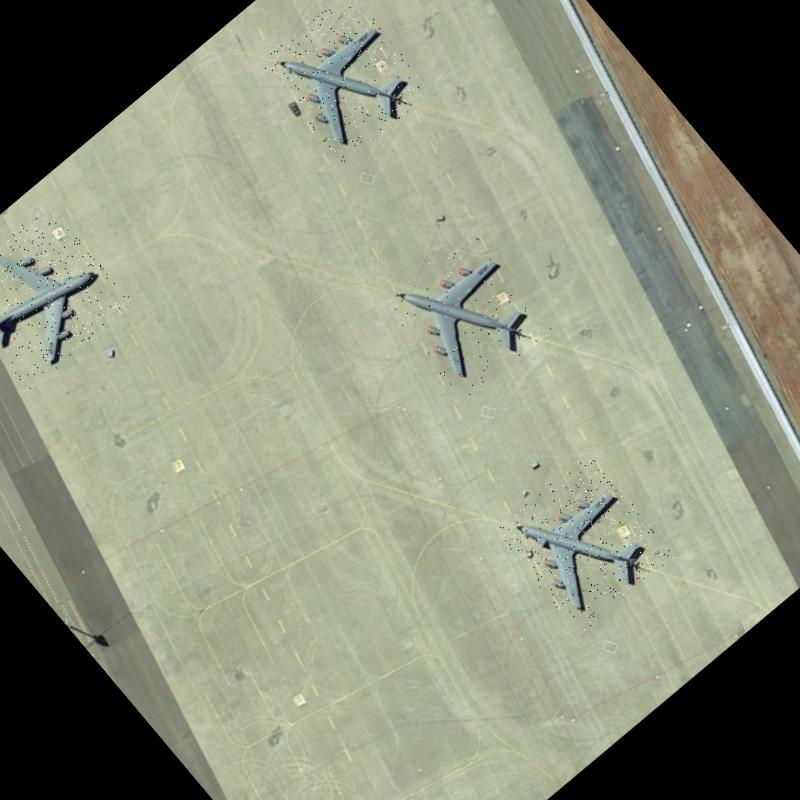A14: (492, 450, 676, 635), (379, 224, 556, 403), (256, 0, 433, 165), (0, 201, 134, 392)
